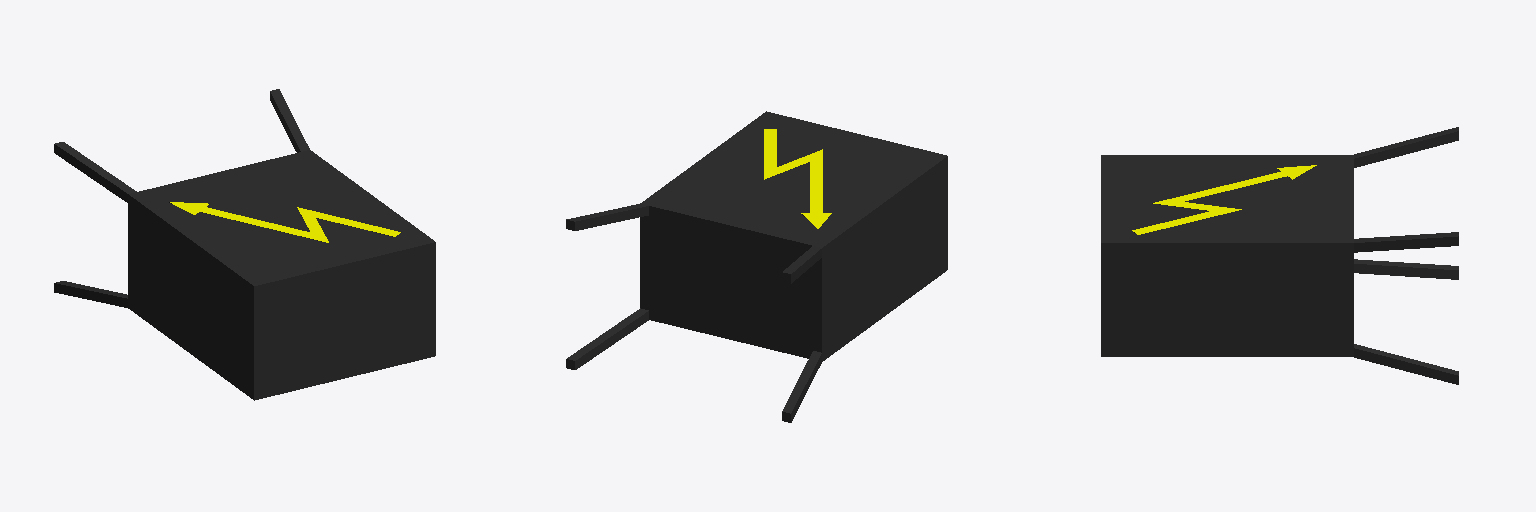
File: Stromversorgung.obj
3 views of the same model, side by side, from view 1: azimuth 30°, elevation 25°; view 2: azimuth 150°, elevation 25°; view 3: azimuth 270°, elevation 25° (orthographic).
Visible parts, largest first — view 1: _Stromversorgung:polySurface1 _Stromversorgung:_JOB_Extending_an; view 2: _Stromversorgung:polySurface1 _Stromversorgung:_JOB_Extending_an; view 3: _Stromversorgung:polySurface1 _Stromversorgung:_JOB_Extending_an.
Part boxes in pixels (left/top/right/bottom): _Stromversorgung:polySurface1 _Stromversorgung:_JOB_Extending_an: left=54, top=89, right=435, bottom=400; _Stromversorgung:polySurface1 _Stromversorgung:_JOB_Extending_an: left=566, top=111, right=947, bottom=422; _Stromversorgung:polySurface1 _Stromversorgung:_JOB_Extending_an: left=1101, top=127, right=1458, bottom=384.
Bounding box in the file's own units: 1.24 × 0.7817 × 1.7.